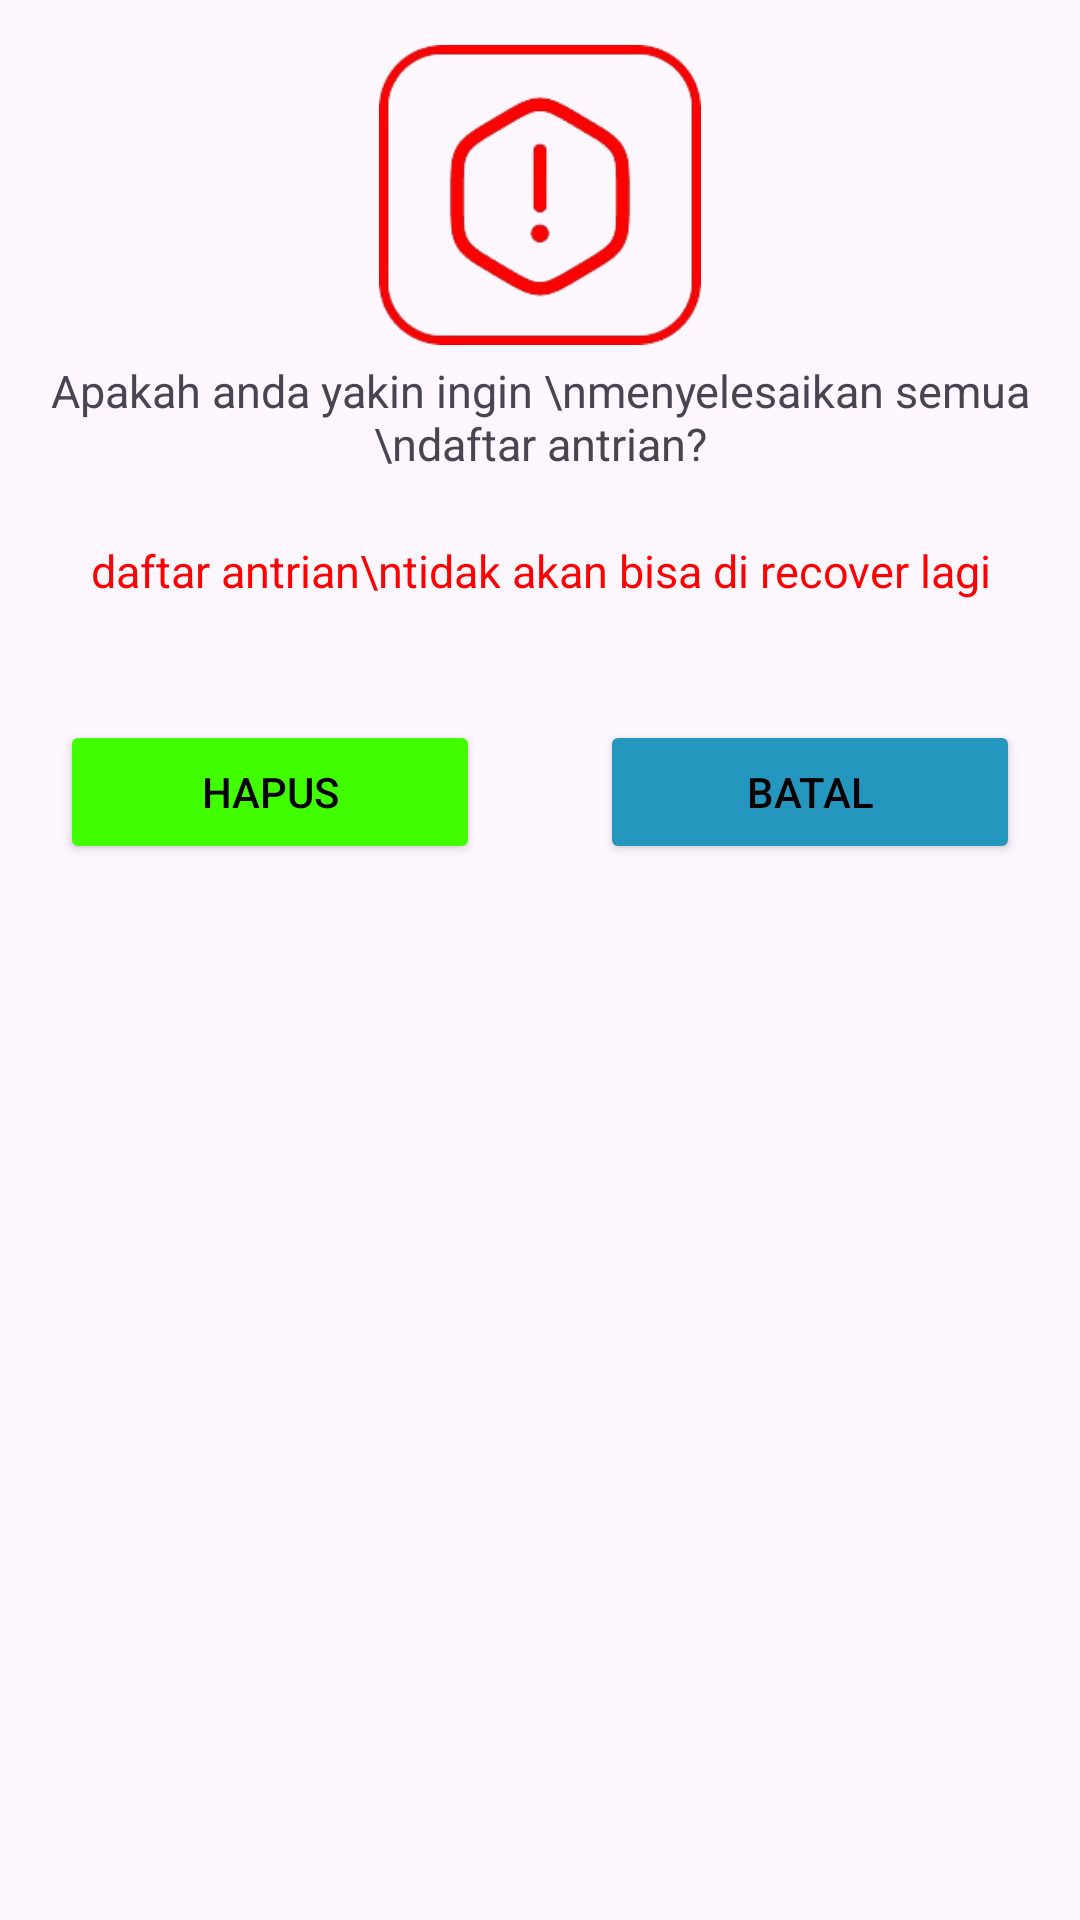

Icon click points for this 1080w x 1920h phone screenshot, format [x,y]:
danger: [540,195]
